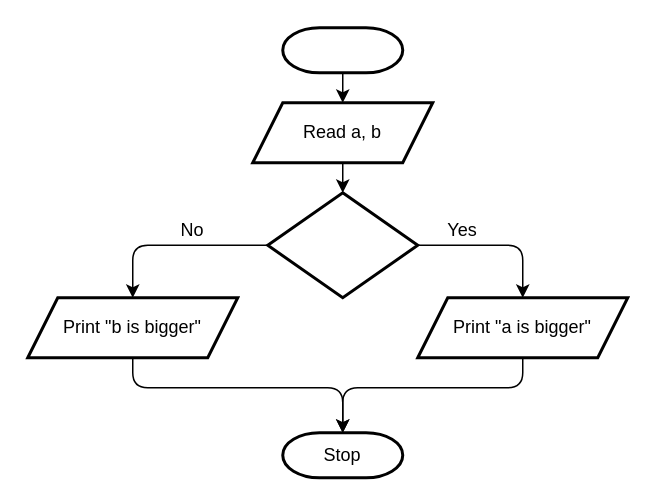
Image size: 654x504. Some labels were removed from this diagram. Here are the shapes that lost their labels. From the top down, the centre of each, then its label:
At (x=342, y=50): "Start".
At (x=342, y=244): "a > b ?".
